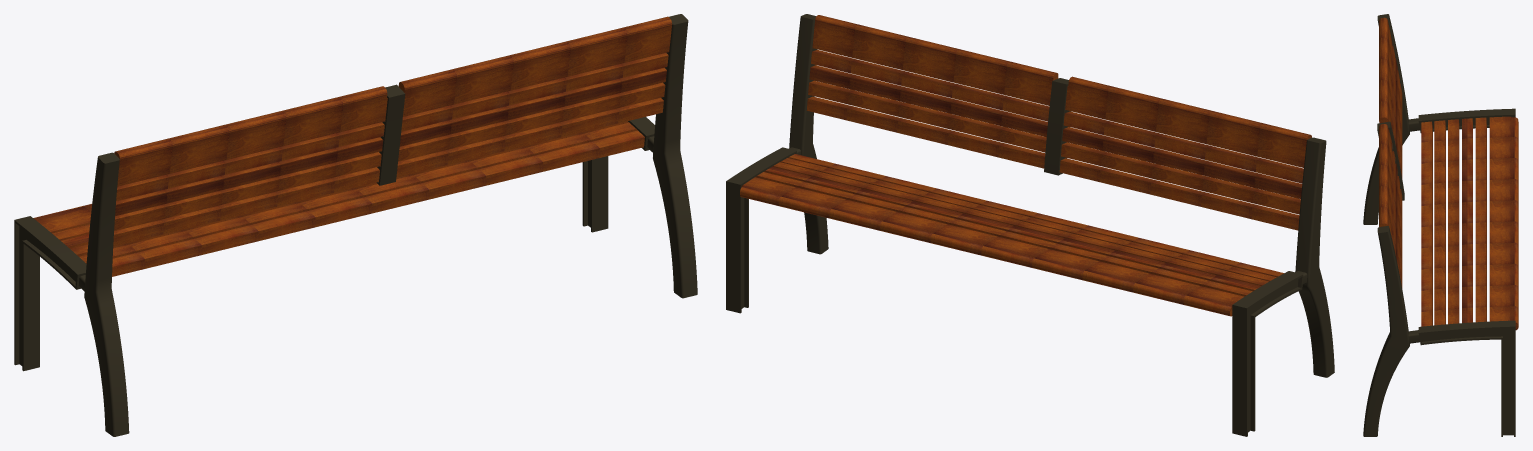
3 renders of one model, left to right at view 1: azimuth 30°, elevation 25°; view 2: azimuth 150°, elevation 25°; view 3: azimuth 270°, elevation 25°, orthographic. The views are drawn at different scales.
Visible parts, largest first — view 1: mesh8_mesh8-geometry, mesh25_mesh25-geometry, mesh5_mesh5-geometry, mesh27_mesh27-geometry, mesh4_mesh4-geometry, mesh3_mesh3-geometry, mesh10_mesh10-geometry, mesh2_mesh2-geometry, mesh6_mesh6-geometry, mesh26_mesh26-geometry, mesh7_mesh7-geometry, mesh11_mesh11-geometry; view 2: mesh8_mesh8-geometry, mesh11_mesh11-geometry, mesh25_mesh25-geometry, mesh4_mesh4-geometry, mesh3_mesh3-geometry, mesh10_mesh10-geometry, mesh2_mesh2-geometry, mesh27_mesh27-geometry, mesh9_mesh9-geometry, mesh1_mesh1-geometry, mesh7_mesh7-geometry, mesh6_mesh6-geometry (+2 smaller); view 3: mesh27_mesh27-geometry, mesh11_mesh11-geometry, mesh8_mesh8-geometry, mesh25_mesh25-geometry, mesh6_mesh6-geometry, mesh5_mesh5-geometry, mesh9_mesh9-geometry, mesh7_mesh7-geometry, mesh1_mesh1-geometry, mesh2_mesh2-geometry, mesh10_mesh10-geometry, mesh3_mesh3-geometry (+2 smaller).
Part boxes in pixels (box(x1,y1,x2,y2)): mesh8_mesh8-geometry: box(114, 16, 672, 186); mesh25_mesh25-geometry: box(14, 152, 129, 436); mesh5_mesh5-geometry: box(112, 130, 644, 276); mesh27_mesh27-geometry: box(582, 14, 697, 298); mesh4_mesh4-geometry: box(113, 98, 663, 246); mesh3_mesh3-geometry: box(114, 82, 665, 230); mesh10_mesh10-geometry: box(115, 67, 666, 216); mesh2_mesh2-geometry: box(116, 53, 668, 201); mesh6_mesh6-geometry: box(79, 122, 637, 263); mesh26_mesh26-geometry: box(376, 84, 405, 185); mesh7_mesh7-geometry: box(70, 121, 628, 256); mesh11_mesh11-geometry: box(33, 204, 91, 233); mesh8_mesh8-geometry: box(812, 15, 1311, 167); mesh11_mesh11-geometry: box(740, 177, 1243, 316); mesh25_mesh25-geometry: box(1232, 137, 1334, 436); mesh4_mesh4-geometry: box(806, 96, 1299, 230); mesh3_mesh3-geometry: box(808, 80, 1300, 214); mesh10_mesh10-geometry: box(809, 65, 1302, 198); mesh2_mesh2-geometry: box(811, 50, 1303, 183); mesh27_mesh27-geometry: box(726, 14, 828, 313); mesh9_mesh9-geometry: box(755, 172, 1252, 296); mesh1_mesh1-geometry: box(764, 167, 1260, 291); mesh7_mesh7-geometry: box(772, 162, 1268, 285); mesh6_mesh6-geometry: box(780, 158, 1276, 281); mesh27_mesh27-geometry: box(1363, 226, 1515, 436); mesh11_mesh11-geometry: box(1489, 116, 1518, 330); mesh8_mesh8-geometry: box(1379, 17, 1392, 238); mesh25_mesh25-geometry: box(1363, 14, 1515, 224); mesh6_mesh6-geometry: box(1434, 120, 1445, 325); mesh5_mesh5-geometry: box(1421, 121, 1432, 326); mesh9_mesh9-geometry: box(1475, 117, 1486, 322); mesh7_mesh7-geometry: box(1448, 119, 1459, 324); mesh1_mesh1-geometry: box(1462, 118, 1472, 322); mesh2_mesh2-geometry: box(1392, 45, 1395, 252); mesh10_mesh10-geometry: box(1395, 58, 1397, 263); mesh3_mesh3-geometry: box(1397, 70, 1399, 275).
Bounding box in the file's own units: 0.8814 × 0.3912 × 0.265.
